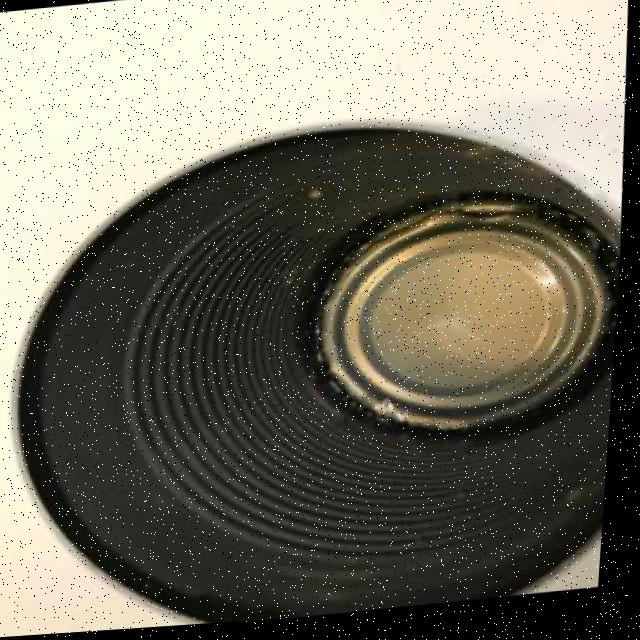metal: (0, 98, 633, 639)
